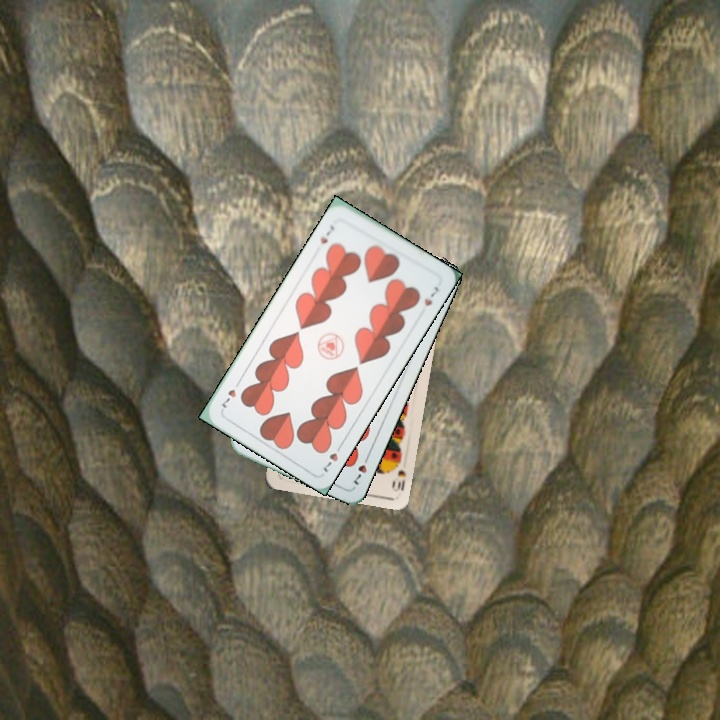H7: (319, 439, 345, 475), (349, 450, 372, 488), (316, 221, 338, 247)
S10: (388, 454, 409, 494)
